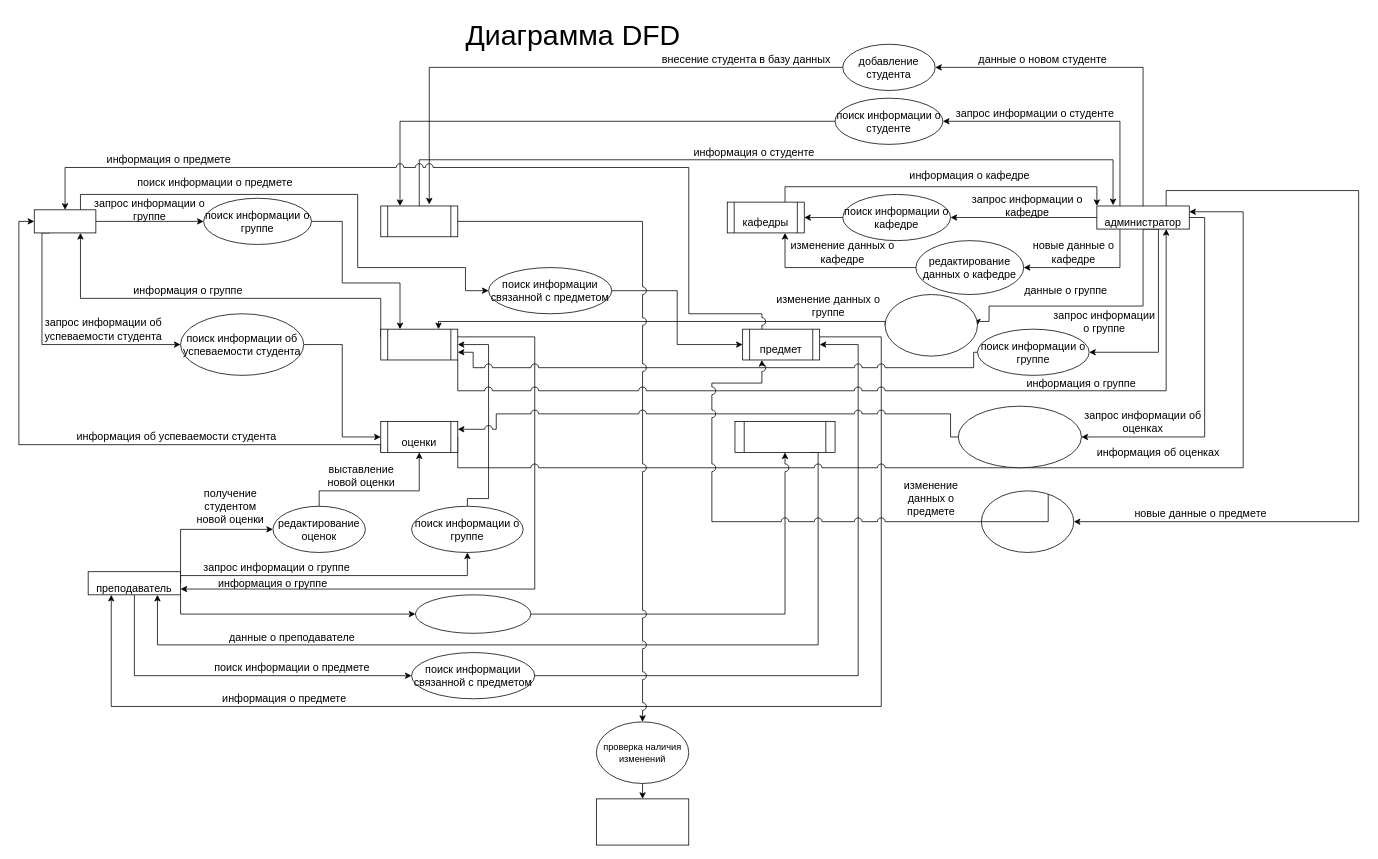
This 1378x859 diagram has some shape labels left out. Here are the shapes that lost their labels. From the top down, the centre of each, then its label:
At (64,221): "студент".
At (419,221): "студенты".
At (419,344): "группы".
At (931,325): "редактирование данных о группе".
At (784,436): "преподаватели".
At (1019,436): "поиск информации об оценках".
At (1027,521): "редактирование данных о предмете".
At (473,613): "поиск информации о преподавателе".
At (642,821): "База данных".
